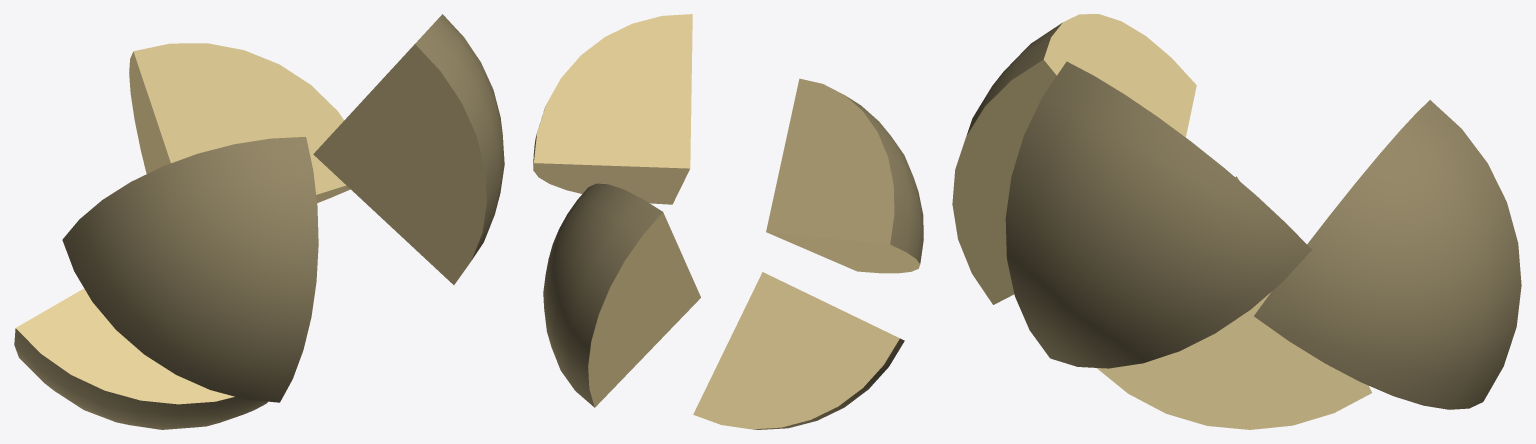
The model's file is AppleCut.fbx.
3 renders of one model, left to right at view 1: azimuth 30°, elevation 25°; view 2: azimuth 150°, elevation 25°; view 3: azimuth 270°, elevation 25°, orthographic. The views are drawn at different scales.
Visible parts, largest first — view 1: 球.001, 球.004, 球.003, 球.002; view 2: 球.004, 球.003, 球.001, 球.002; view 3: 球.004, 球.003, 球.001, 球.002.
Part boxes in pixels (x1,y1,x2,y2): 球.001: [62, 136, 318, 402]; 球.004: [313, 14, 504, 284]; 球.003: [129, 43, 350, 202]; 球.002: [14, 288, 267, 429]; 球.004: [533, 14, 692, 204]; 球.003: [543, 183, 700, 407]; 球.001: [766, 78, 923, 273]; 球.002: [693, 272, 904, 429]; 球.004: [1005, 61, 1311, 368]; 球.003: [1254, 100, 1521, 409]; 球.001: [952, 14, 1196, 304]; 球.002: [1097, 176, 1371, 429].
Bounding box in the file's own units: 265 × 222 × 258.
